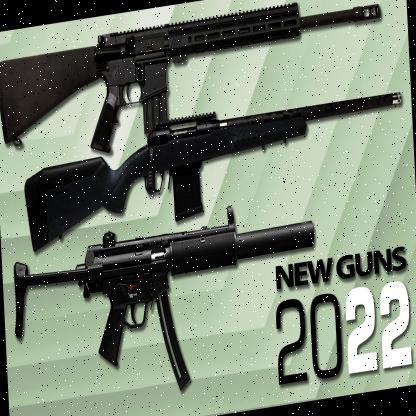rifle: (19, 82, 407, 245), (0, 0, 392, 146), (11, 207, 261, 382)
